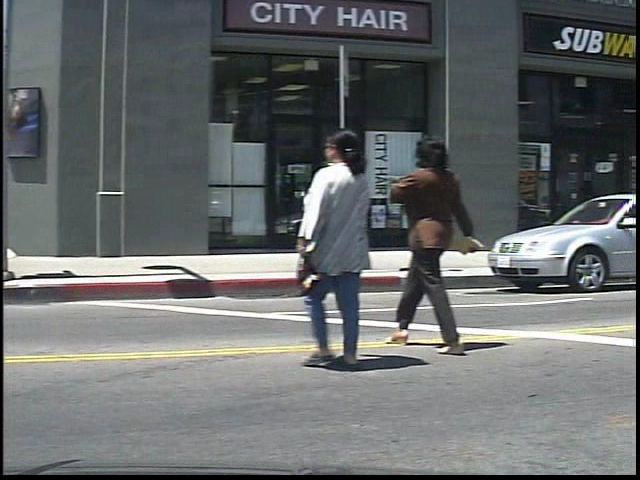person: (396, 124, 495, 356), (302, 123, 391, 372)
